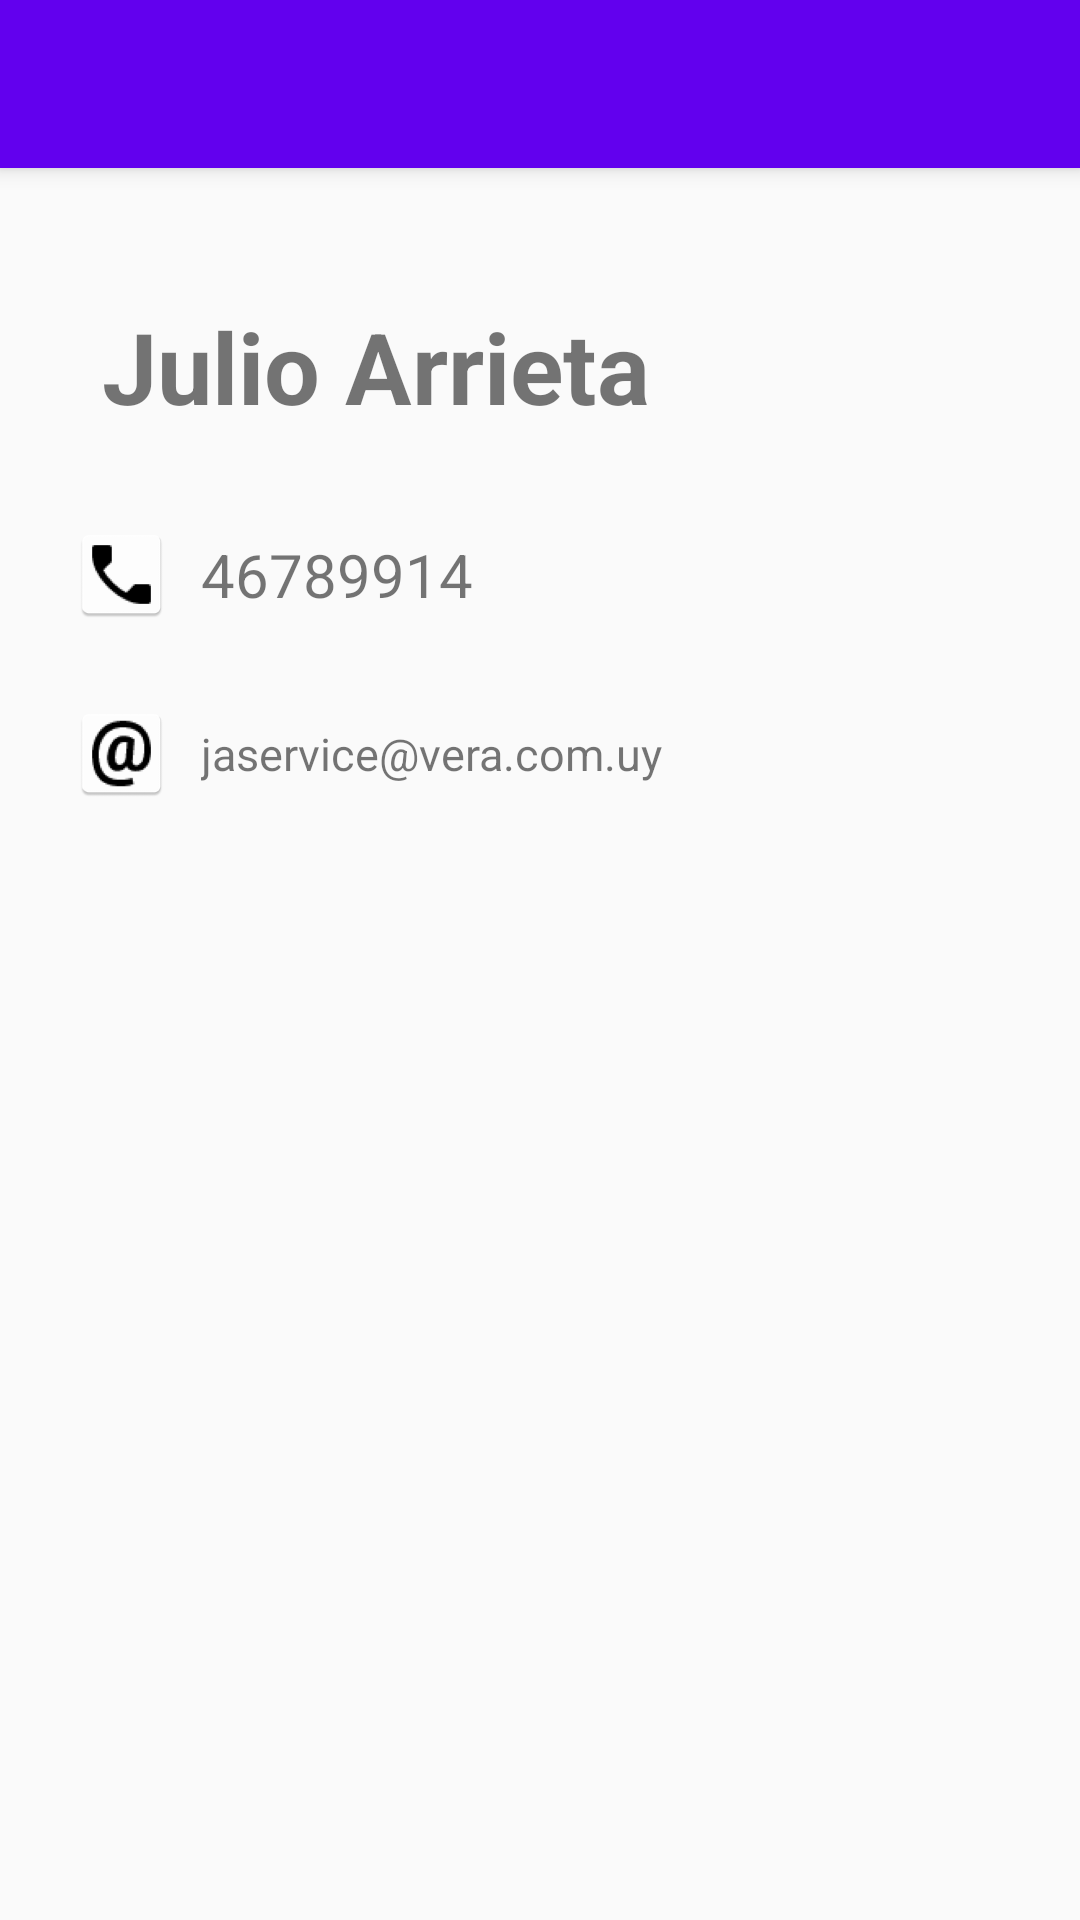

Icons on this 1080 x 1920 Android screen, each with its box as [x1=x1, y1=y1, x2=x2, y2=y2]:
email: [x1=82, y1=720, x2=161, y2=795]
telefono: [x1=82, y1=540, x2=161, y2=616]
